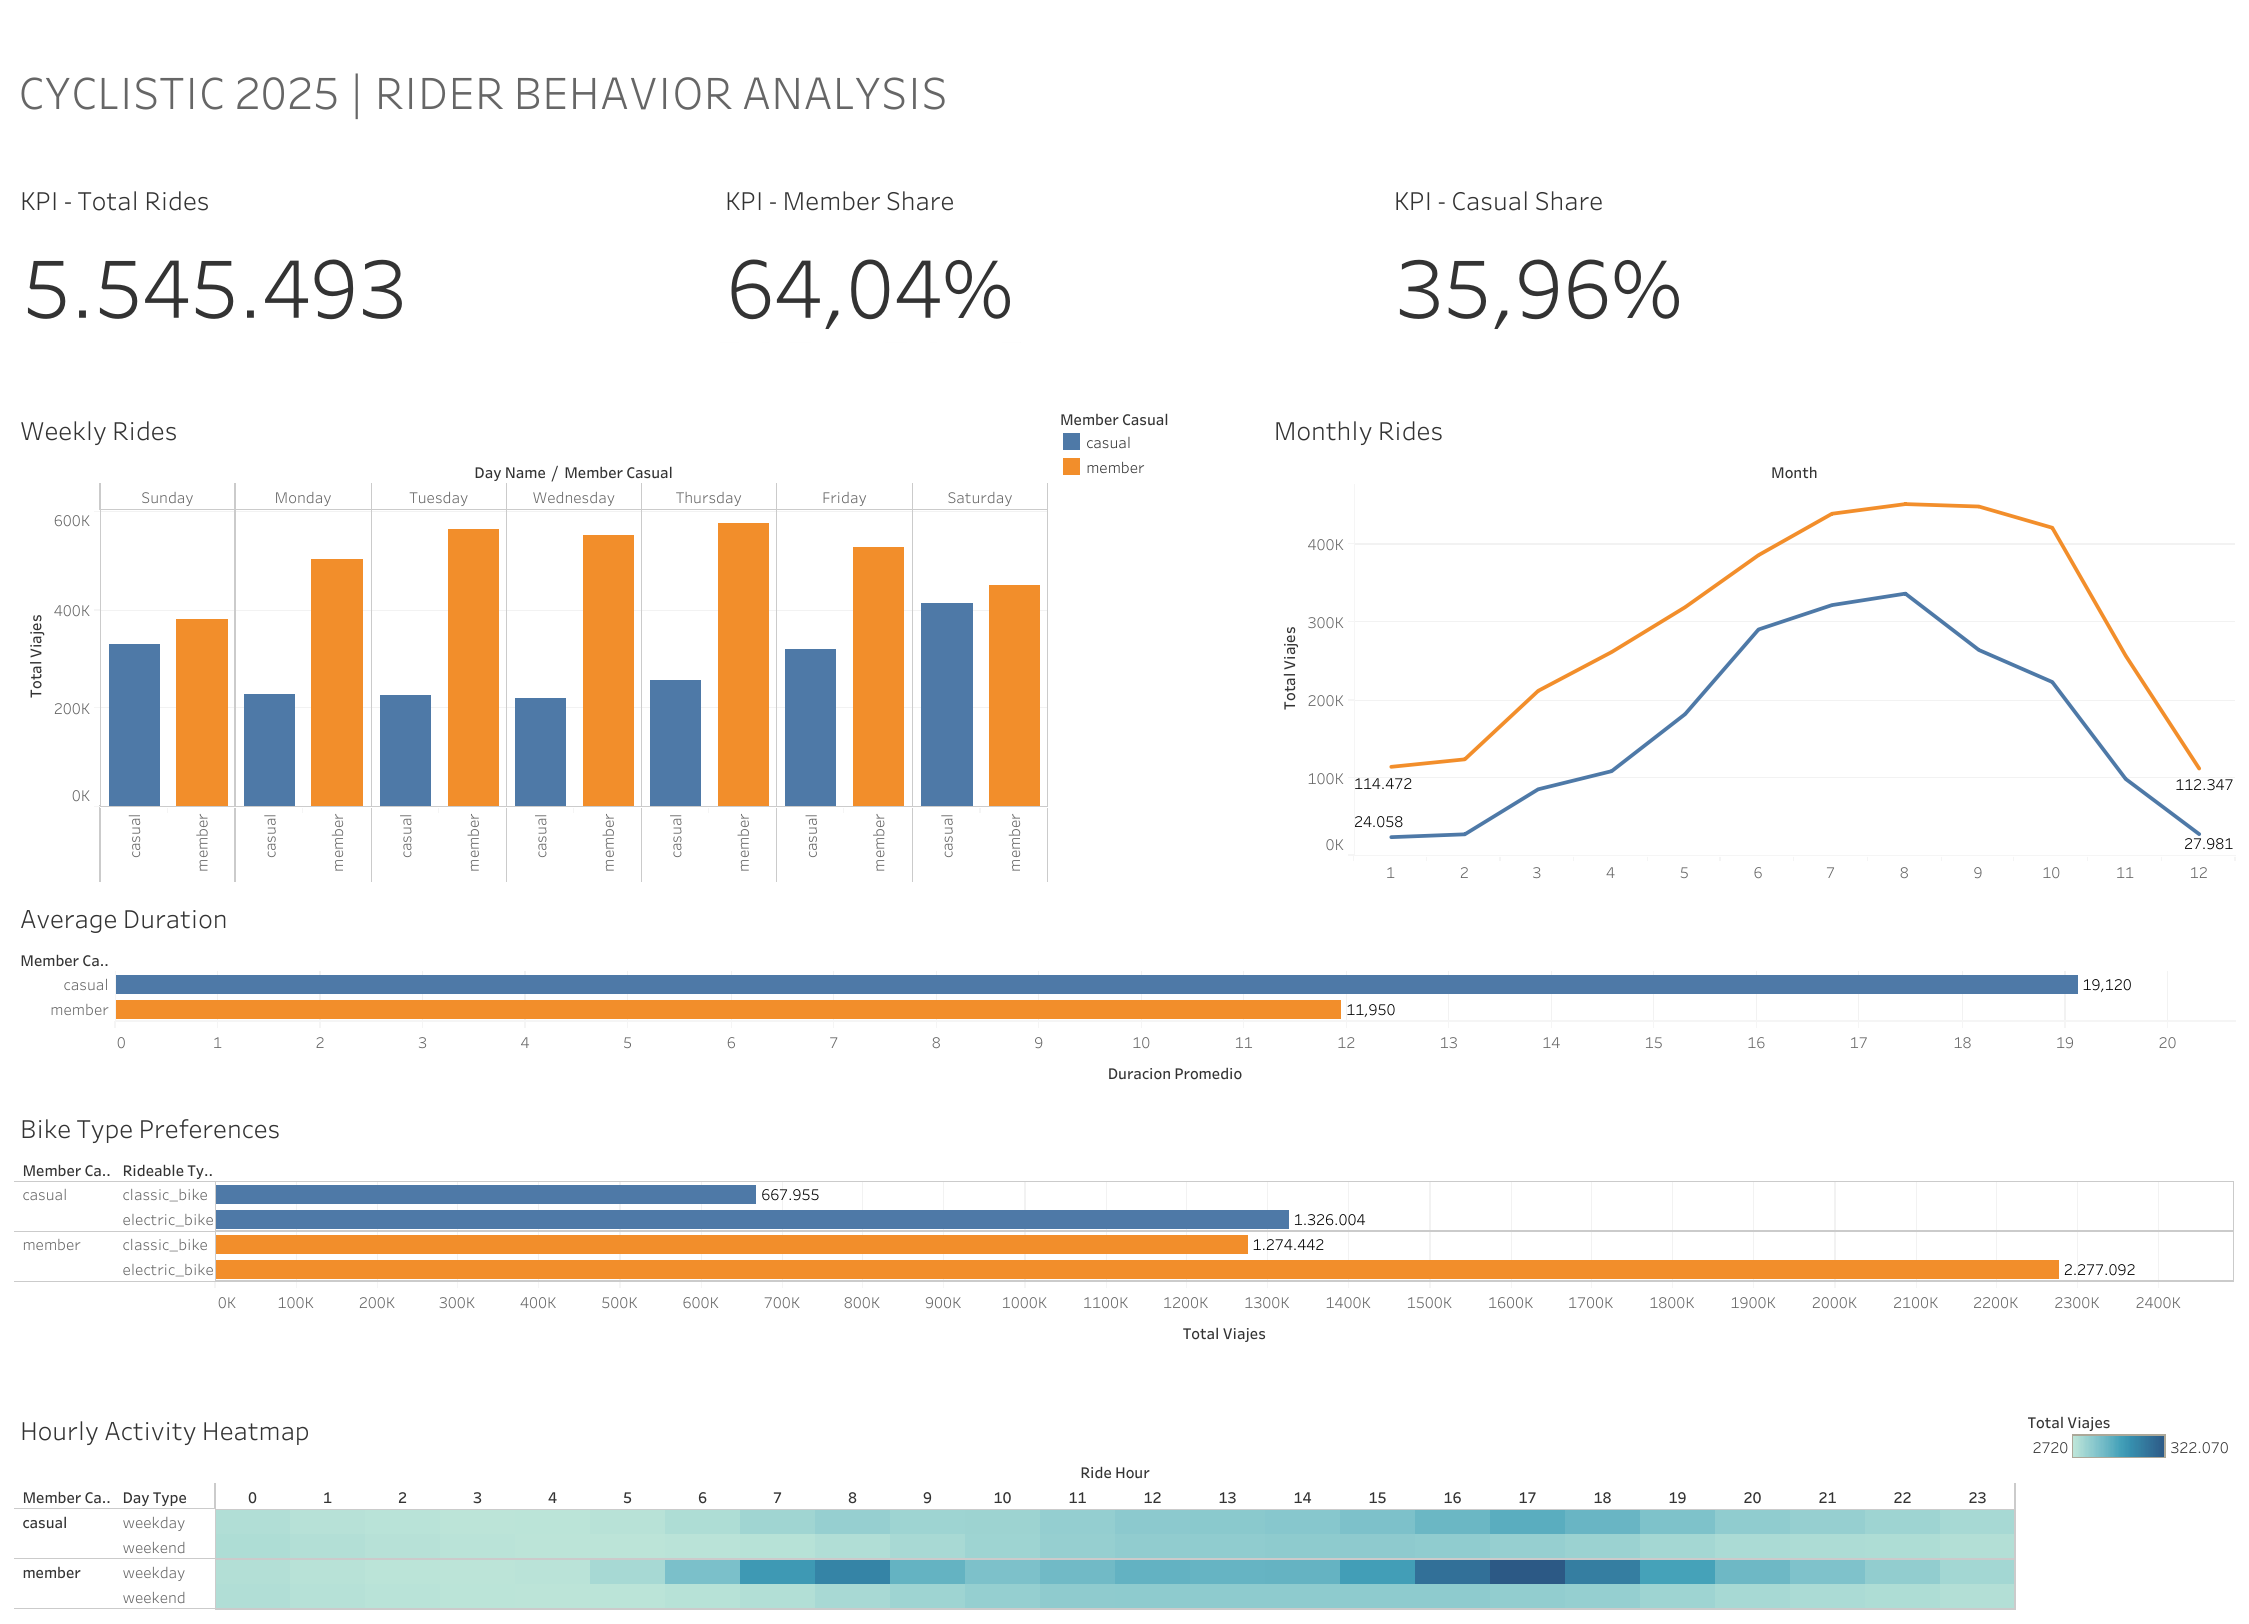

This screenshot's page, from the dashboard's own definition file:
{"tool":"tableau","page":{"name":"Cyclistic 2025 Dashboard","canvas":[1800,1300],"ordinal":0},"visuals":[{"type":"text","box":[8,8,1784,128]},{"type":"worksheet","title":"KPI - Total Rides","mark":"Automatic","box":[8,136,564,184]},{"type":"worksheet","title":"KPI - Member Share","mark":"Automatic","box":[572,136,535,184]},{"type":"worksheet","title":"KPI - Casual Share","mark":"Automatic","box":[1107,136,685,184]},{"type":"worksheet","title":"Weekly Rides","mark":"Bar","rows":["total_viajes"],"cols":["day_name","member_casual"],"box":[8,320,835,390]},{"type":"legend","title":"Monthly Rides","param":"[federated.0bfysr60iegqjh10l2tz21kht4z6].[none:member_casual:nk]","box":[843,320,168,390]},{"type":"worksheet","title":"Monthly Rides","mark":"Line","rows":["total_viajes"],"cols":["month"],"box":[1011,320,781,390]},{"type":"worksheet","title":"Average Duration","mark":"Bar","rows":["member_casual"],"cols":["duracion_promedio"],"box":[8,710,1784,168]},{"type":"worksheet","title":"Bike Type Preferences","mark":"Automatic","rows":["member_casual","rideable_type"],"cols":["total_viajes"],"box":[8,878,1784,242]},{"type":"worksheet","title":"Hourly Activity Heatmap","mark":"Square","rows":["member_casual","day_type"],"cols":["ride_hour"],"box":[8,1120,1610,172]},{"type":"legend","title":"Hourly Activity Heatmap","param":"[federated.16f8yj61630o1d166p9lz1ekm69q].[sum:total_viajes:qk]","box":[1618,1120,174,172]}]}

Visuals, with their boxes in screenshot pixels (x1, y1, x2, y2), scaled from the page's 1800x1300 canvas onto the 2249x1624 screenshot:
text: bbox=[10, 10, 2239, 170]
"KPI - Total Rides" worksheet: bbox=[10, 170, 715, 400]
"KPI - Member Share" worksheet: bbox=[715, 170, 1383, 400]
"KPI - Casual Share" worksheet: bbox=[1383, 170, 2239, 400]
"Weekly Rides" worksheet (Bar marks): bbox=[10, 400, 1053, 887]
"Monthly Rides" legend: bbox=[1053, 400, 1263, 887]
"Monthly Rides" worksheet (Line marks): bbox=[1263, 400, 2239, 887]
"Average Duration" worksheet (Bar marks): bbox=[10, 887, 2239, 1097]
"Bike Type Preferences" worksheet: bbox=[10, 1097, 2239, 1399]
"Hourly Activity Heatmap" worksheet (Square marks): bbox=[10, 1399, 2022, 1614]
"Hourly Activity Heatmap" legend: bbox=[2022, 1399, 2239, 1614]
